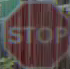Stop: (4, 8, 64, 56)
